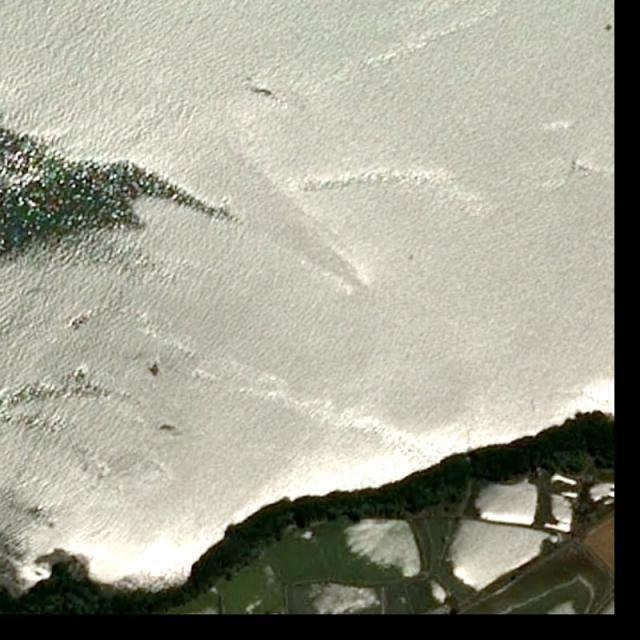ship: (361, 285, 371, 294)
